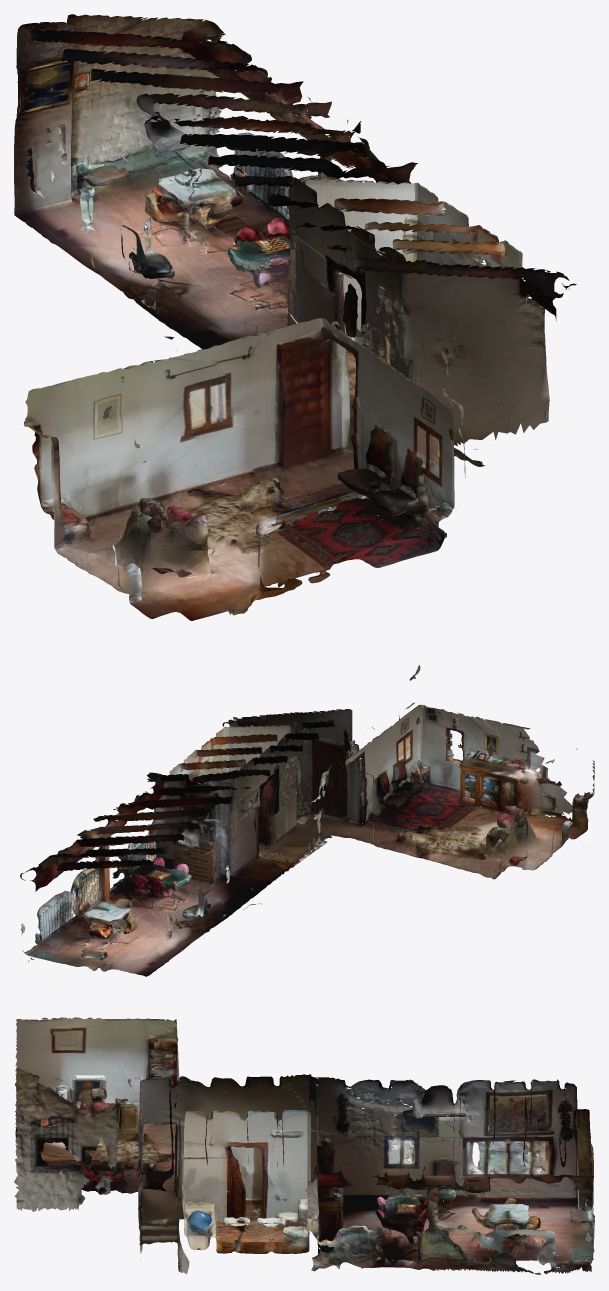
Rendered from esc_alta_muros_06.glb.
3 renders of one model, top to bottom at view 1: azimuth 30°, elevation 25°; view 2: azimuth 150°, elevation 25°; view 3: azimuth 270°, elevation 25°, orthographic. The views are drawn at different scales.
Visible parts, largest first — view 1: muros_Salon_y_porche_6_GLTF_6, muros_Salon_y_porche_6_GLTF_12, muros_Salon_y_porche_6_GLTF_10, muros_Salon_y_porche_6_GLTF_2, muros_Salon_y_porche_6_GLTF_4, muros_Salon_y_porche_6_GLTF_9, muros_Salon_y_porche_6_GLTF_1, muros_Salon_y_porche_6_GLTF_8, muros_Salon_y_porche_6_GLTF_13, muros_Salon_y_porche_6_GLTF_11, muros_Salon_y_porche_6_GLTF_5, muros_Salon_y_porche_6_GLTF_3 (+2 smaller); view 2: muros_Salon_y_porche_6_GLTF_12, muros_Salon_y_porche_6_GLTF_13, muros_Salon_y_porche_6_GLTF_6, muros_Salon_y_porche_6_GLTF_10, muros_Salon_y_porche_6_GLTF_8, muros_Salon_y_porche_6_GLTF_5, muros_Salon_y_porche_6_GLTF_4, muros_Salon_y_porche_6_GLTF_11, muros_Salon_y_porche_6_GLTF_9, muros_Salon_y_porche_6_GLTF_2, muros_Salon_y_porche_6_GLTF, muros_Salon_y_porche_6_GLTF_3 (+2 smaller); view 3: muros_Salon_y_porche_6_GLTF_8, muros_Salon_y_porche_6_GLTF_12, muros_Salon_y_porche_6_GLTF_10, muros_Salon_y_porche_6_GLTF_2, muros_Salon_y_porche_6_GLTF_13, muros_Salon_y_porche_6_GLTF_11, muros_Salon_y_porche_6_GLTF, muros_Salon_y_porche_6_GLTF_5, muros_Salon_y_porche_6_GLTF_3, muros_Salon_y_porche_6_GLTF_4, muros_Salon_y_porche_6_GLTF_9, muros_Salon_y_porche_6_GLTF_6 (+2 smaller).
Boxes of the visible parts, box(x1,y1,x2,y2) form: muros_Salon_y_porche_6_GLTF_6: box(71, 38, 549, 620); muros_Salon_y_porche_6_GLTF_12: box(14, 27, 507, 618); muros_Salon_y_porche_6_GLTF_10: box(15, 14, 498, 603); muros_Salon_y_porche_6_GLTF_2: box(24, 14, 511, 536); muros_Salon_y_porche_6_GLTF_4: box(14, 95, 473, 618); muros_Salon_y_porche_6_GLTF_9: box(25, 16, 485, 589); muros_Salon_y_porche_6_GLTF_1: box(34, 74, 569, 615); muros_Salon_y_porche_6_GLTF_8: box(14, 63, 563, 603); muros_Salon_y_porche_6_GLTF_13: box(26, 32, 542, 547); muros_Salon_y_porche_6_GLTF_11: box(31, 48, 576, 598); muros_Salon_y_porche_6_GLTF_5: box(67, 35, 563, 593); muros_Salon_y_porche_6_GLTF_3: box(16, 22, 566, 610); muros_Salon_y_porche_6_GLTF_12: box(30, 703, 572, 976); muros_Salon_y_porche_6_GLTF_13: box(32, 702, 539, 941); muros_Salon_y_porche_6_GLTF_6: box(37, 704, 588, 960); muros_Salon_y_porche_6_GLTF_10: box(21, 716, 572, 958); muros_Salon_y_porche_6_GLTF_8: box(87, 720, 573, 974); muros_Salon_y_porche_6_GLTF_5: box(22, 709, 562, 964); muros_Salon_y_porche_6_GLTF_4: box(20, 711, 594, 942); muros_Salon_y_porche_6_GLTF_11: box(79, 717, 558, 940); muros_Salon_y_porche_6_GLTF_9: box(20, 721, 569, 966); muros_Salon_y_porche_6_GLTF_2: box(28, 750, 583, 967); muros_Salon_y_porche_6_GLTF: box(35, 675, 529, 937); muros_Salon_y_porche_6_GLTF_3: box(21, 665, 561, 961); muros_Salon_y_porche_6_GLTF_8: box(14, 1019, 582, 1248); muros_Salon_y_porche_6_GLTF_12: box(15, 1070, 594, 1273); muros_Salon_y_porche_6_GLTF_10: box(57, 1034, 593, 1262); muros_Salon_y_porche_6_GLTF_2: box(77, 1027, 593, 1274); muros_Salon_y_porche_6_GLTF_13: box(15, 1078, 592, 1268); muros_Salon_y_porche_6_GLTF_11: box(16, 1076, 542, 1268); muros_Salon_y_porche_6_GLTF: box(16, 1017, 580, 1266); muros_Salon_y_porche_6_GLTF_5: box(39, 1044, 592, 1274); muros_Salon_y_porche_6_GLTF_3: box(18, 1018, 594, 1274); muros_Salon_y_porche_6_GLTF_4: box(15, 1019, 593, 1270); muros_Salon_y_porche_6_GLTF_9: box(67, 1018, 593, 1271); muros_Salon_y_porche_6_GLTF_6: box(16, 1076, 592, 1270).
Size of the model in its own units: 9.35 by 3.78 by 14.01.
Materials: 14 (14 with a texture image).
